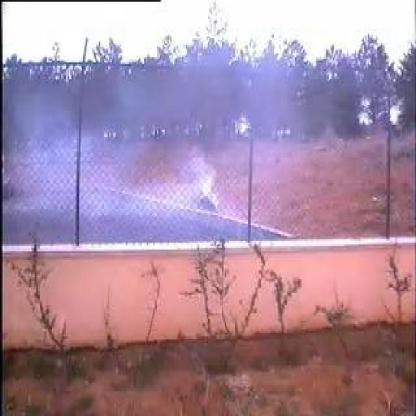-: (76, 68, 254, 242)
